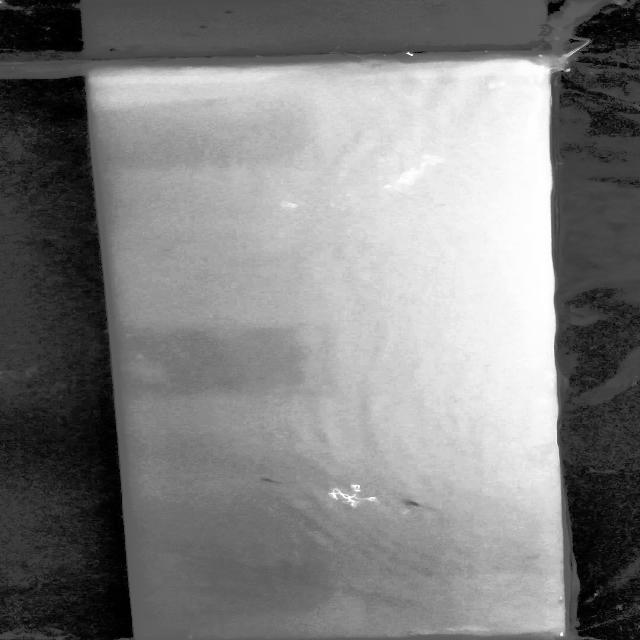shrimp: (396, 494, 434, 516), (249, 469, 284, 490)
